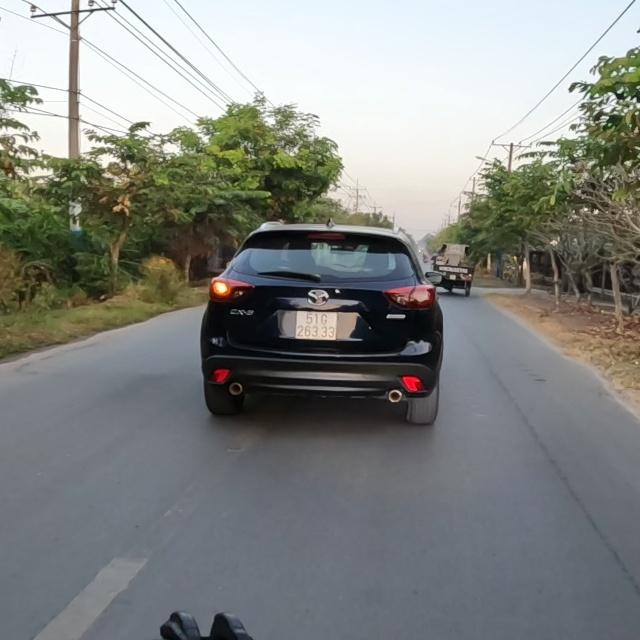license-plate: (294, 309, 339, 342)
